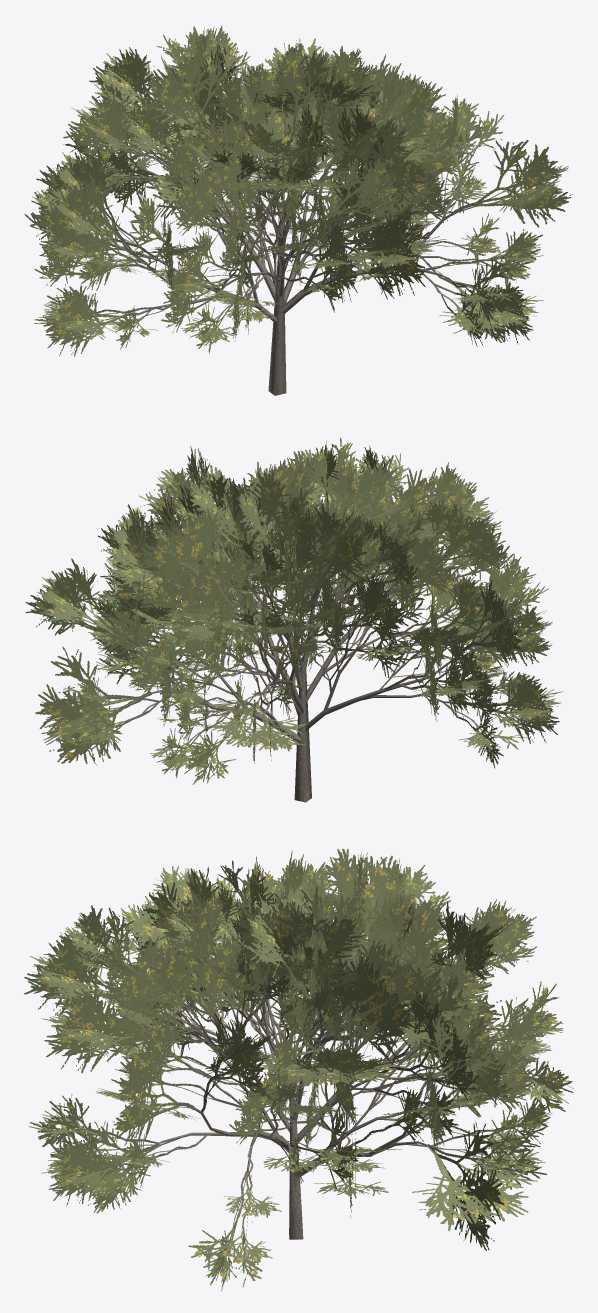
The model's file is ParkinsoniaAculeata.glb.
The picture shows the model from 3 angles, top to bottom: view 1: azimuth 30°, elevation 25°; view 2: azimuth 150°, elevation 25°; view 3: azimuth 270°, elevation 25°; orthographic projection. The views are drawn at different scales.
Visible parts, largest first — view 1: Palo_Verde__Realistic_LOD3; view 2: Palo_Verde__Realistic_LOD3; view 3: Palo_Verde__Realistic_LOD3.
Part boxes in pixels (bbox=[...]): Palo_Verde__Realistic_LOD3: bbox=[24, 26, 572, 395]; Palo_Verde__Realistic_LOD3: bbox=[25, 437, 563, 802]; Palo_Verde__Realistic_LOD3: bbox=[24, 848, 573, 1291].
Size of the model in its own units: 11.25 by 7.69 by 10.56.
1 material, 1 textured.
